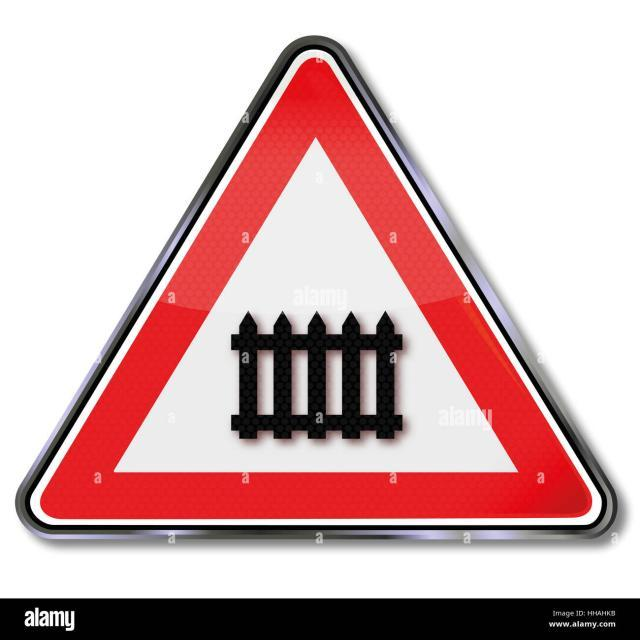guarded level crossing: (28, 36, 623, 548)
